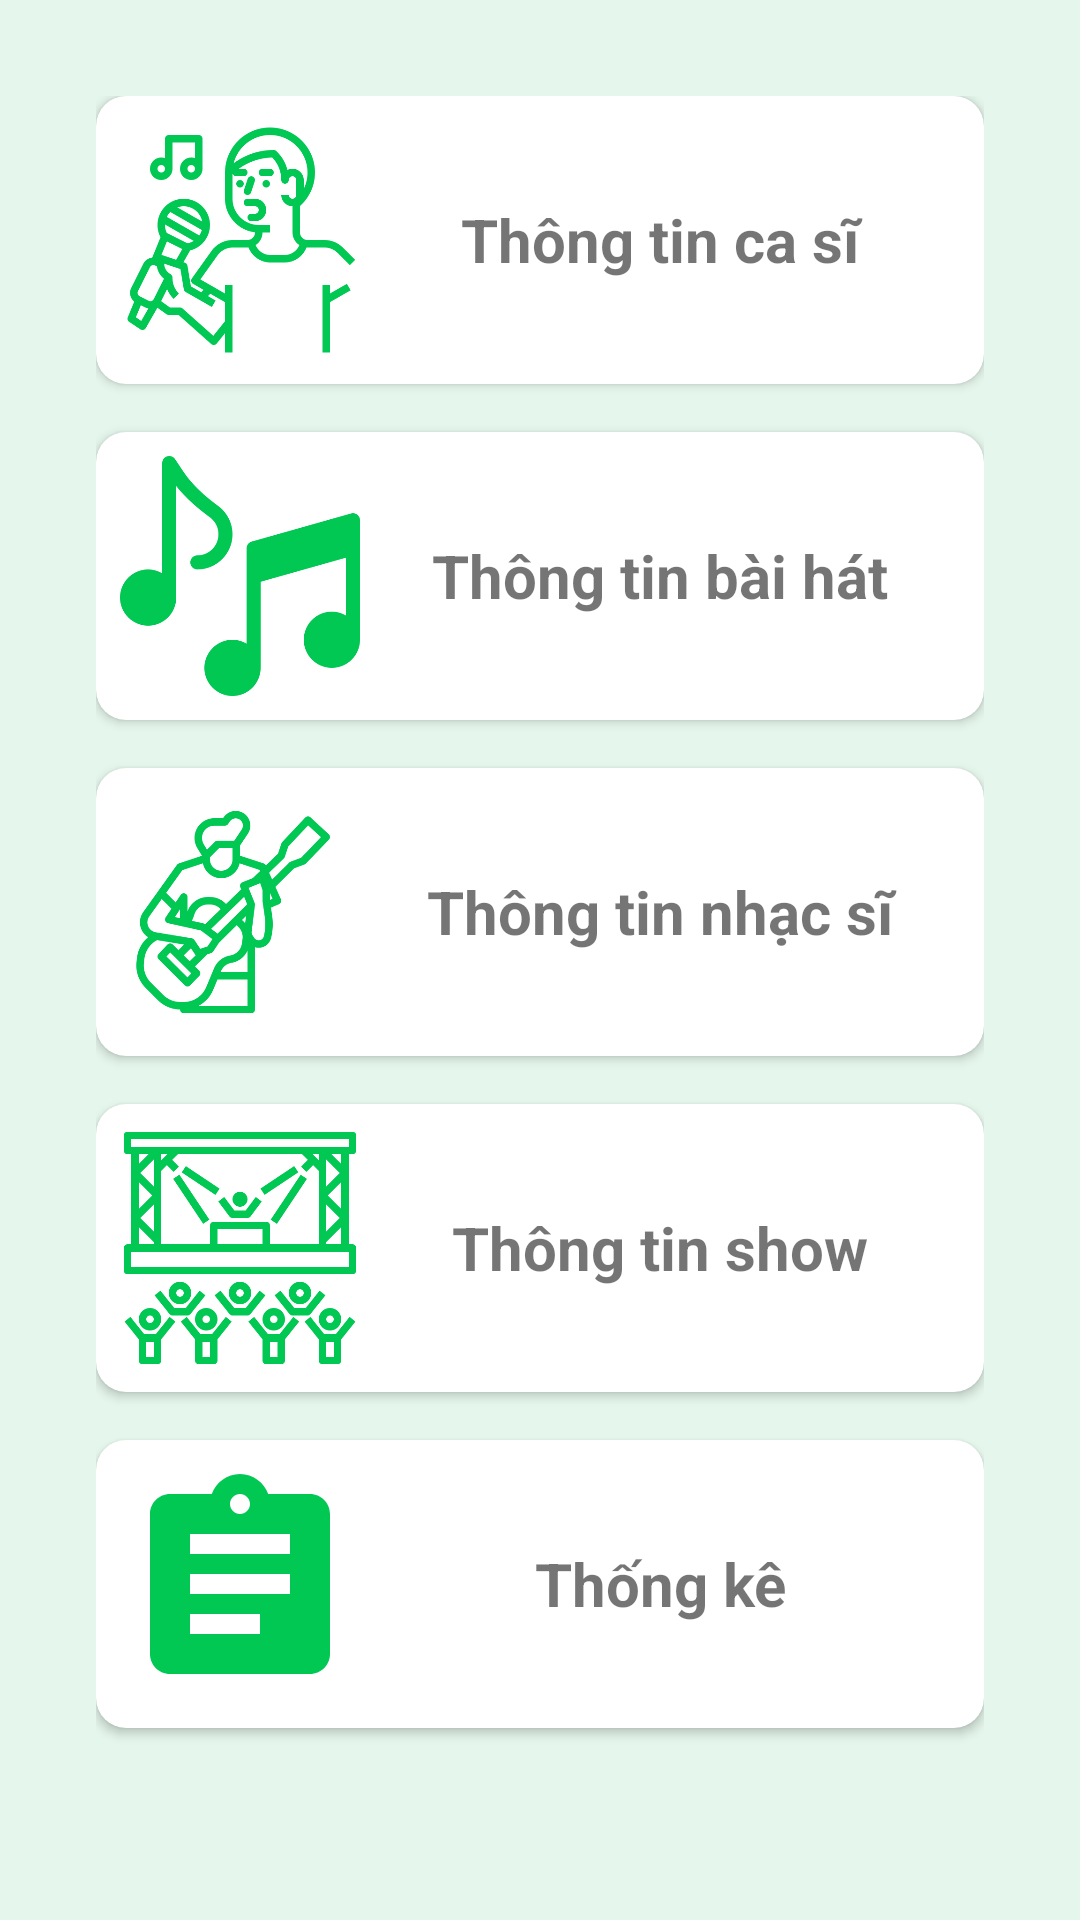

Icons on this 1080px×1920px Android screen, each with the point to tap as [x,y]:
concert: [240,1248]
musician: [233,912]
sing: [241,240]
song: [240,576]
thongke: [240,1574]
